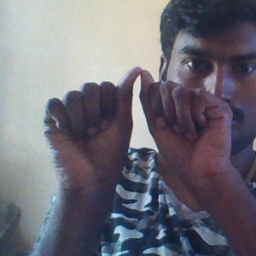A: (42, 63, 238, 185)
